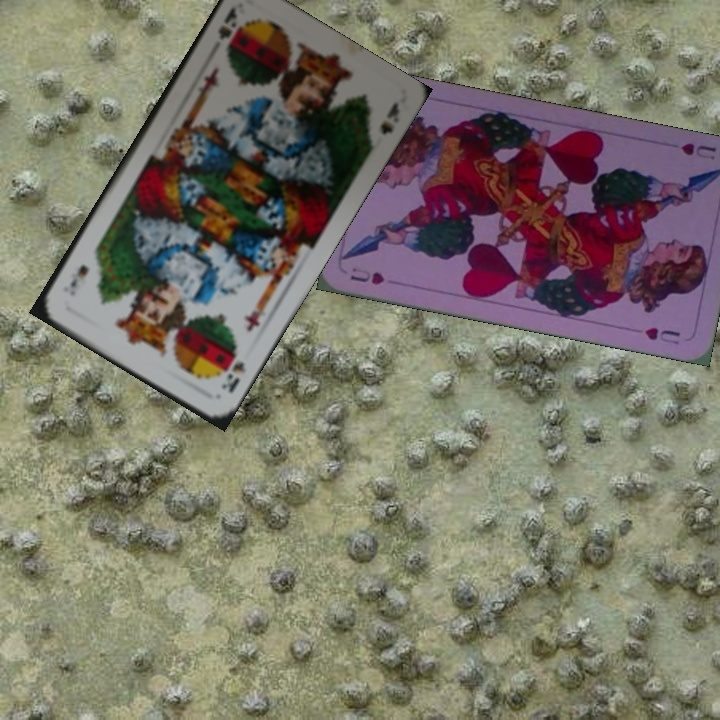HU: (346, 263, 387, 288), (677, 139, 719, 162)
SK: (213, 2, 243, 54), (217, 357, 249, 396)
